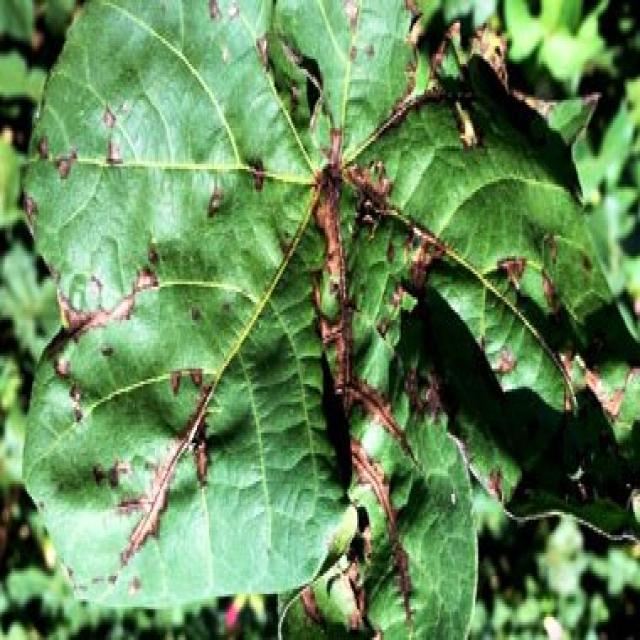Bacterial Blight: (291, 158, 465, 608)
